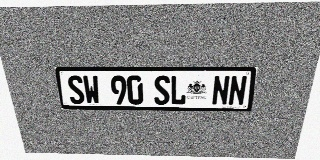0: (126, 75, 143, 105)
9: (110, 75, 128, 104)
L: (170, 75, 187, 105)
N: (228, 76, 248, 106), (211, 76, 230, 105)
S: (66, 75, 85, 104), (154, 75, 170, 105)
W: (82, 75, 101, 104)
